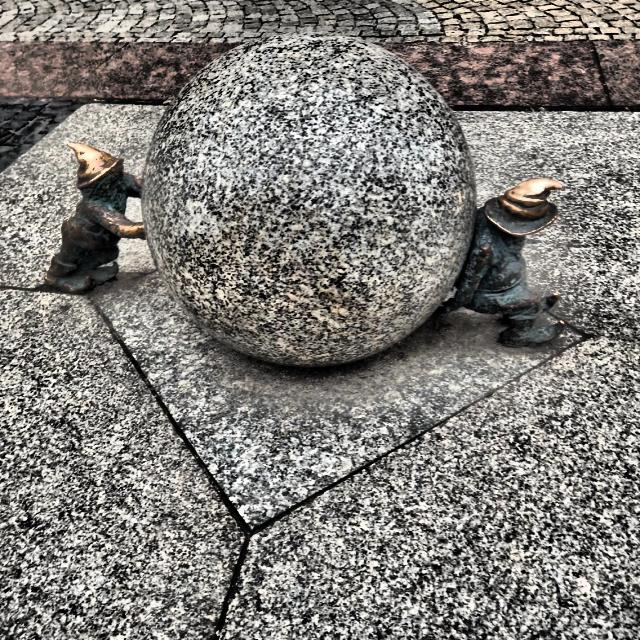Syzyfki: (32, 23, 579, 360)
